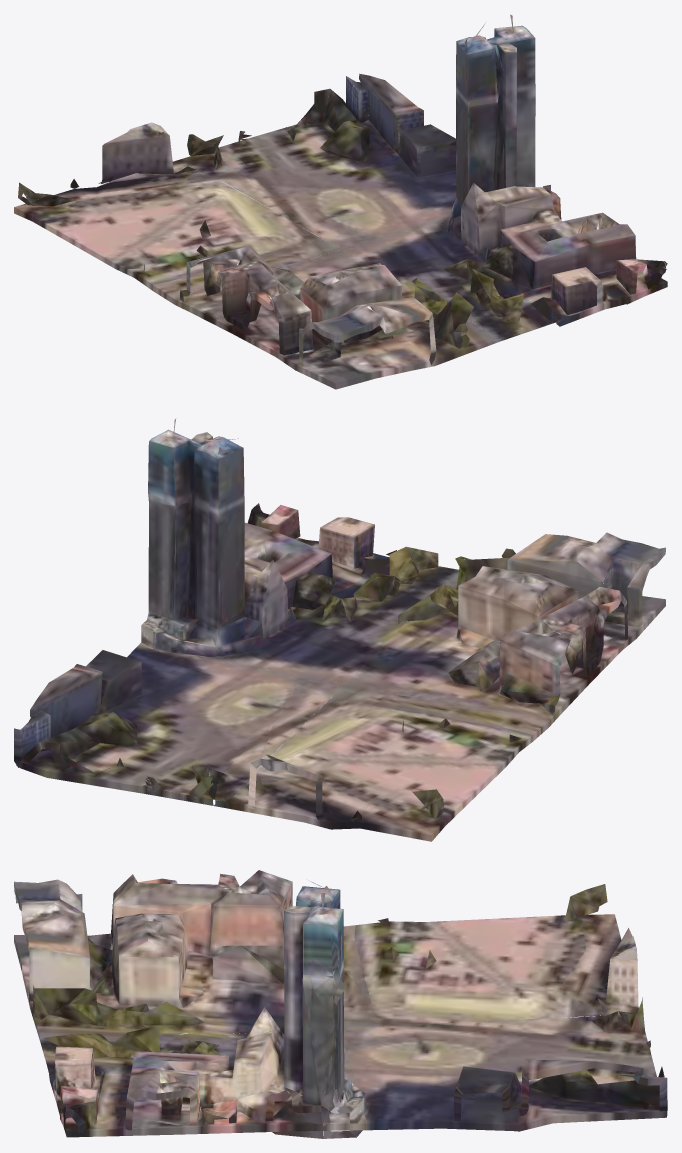
3 views of the same model, one above another, from view 1: azimuth 30°, elevation 25°; view 2: azimuth 150°, elevation 25°; view 3: azimuth 270°, elevation 25° (orthographic). The views are drawn at different scales.
Visible parts, largest first — view 1: Mesh_0; view 2: Mesh_0; view 3: Mesh_0.
Boxes of the visible parts, x1=… form: Mesh_0: x1=14, y1=14, x2=667, y2=389; Mesh_0: x1=14, y1=418, x2=665, y2=841; Mesh_0: x1=14, y1=870, x2=667, y2=1138.
Bounding box in the file's own units: 266 × 132 × 330.
2 materials, 2 textured.
